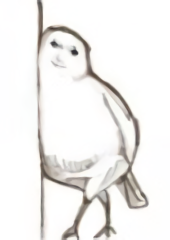dragon: (46, 40, 80, 74)
